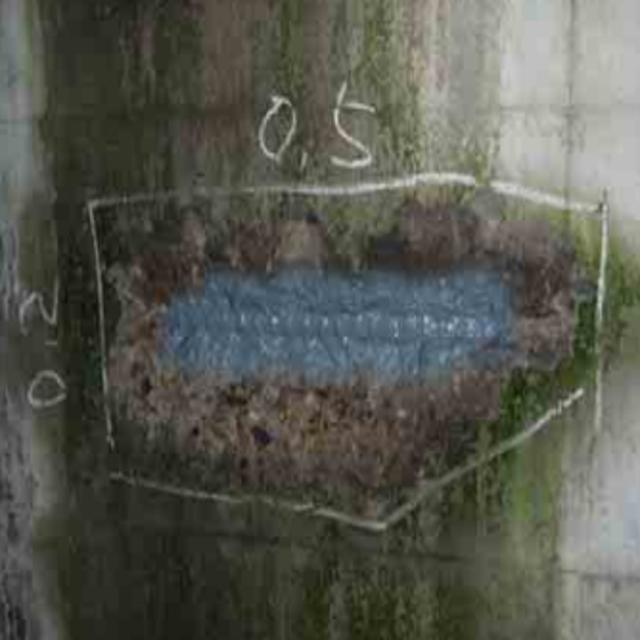spalling: (90, 160, 594, 501)
